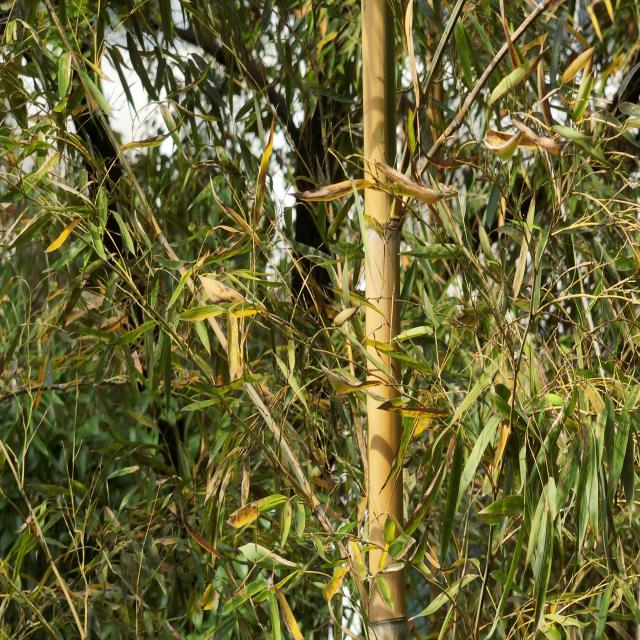Bamboo-shoots: (362, 0, 409, 640)
